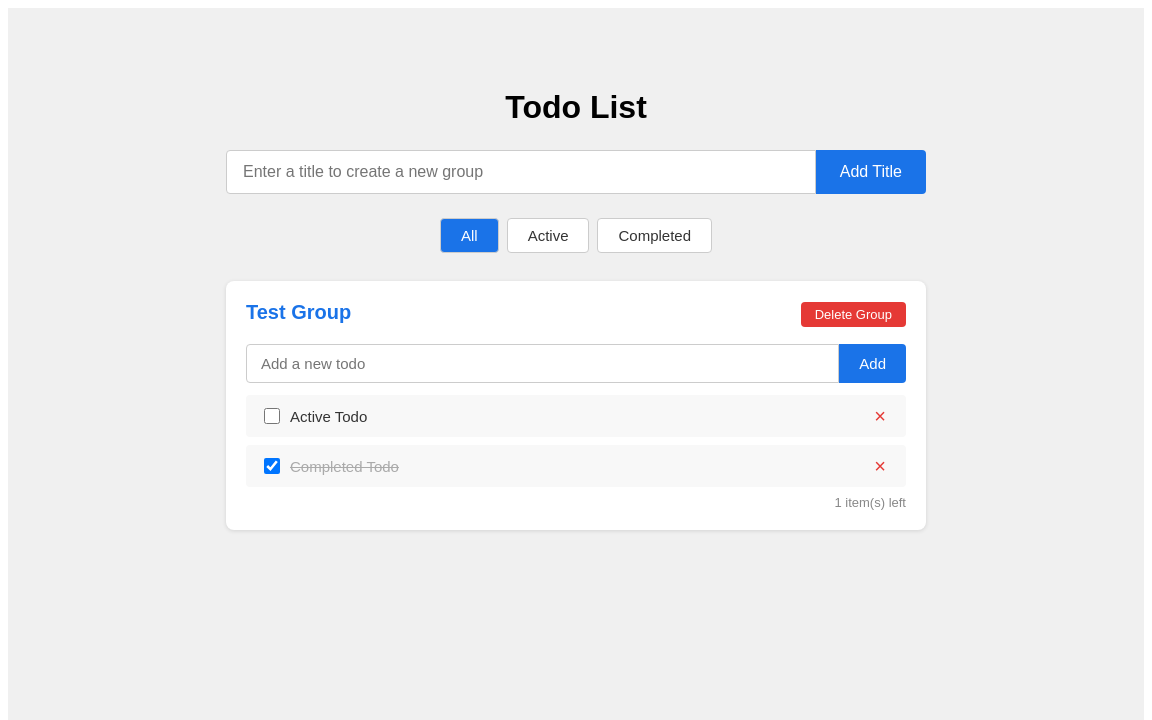
Scenario: Filter functionality › "Completed" filter shows only completed todos
Expected: the text "Active Todo" is shown, [290, 408, 367, 425]
Click the button with test id "filter-completed": [655, 236] box [598, 218, 712, 253]
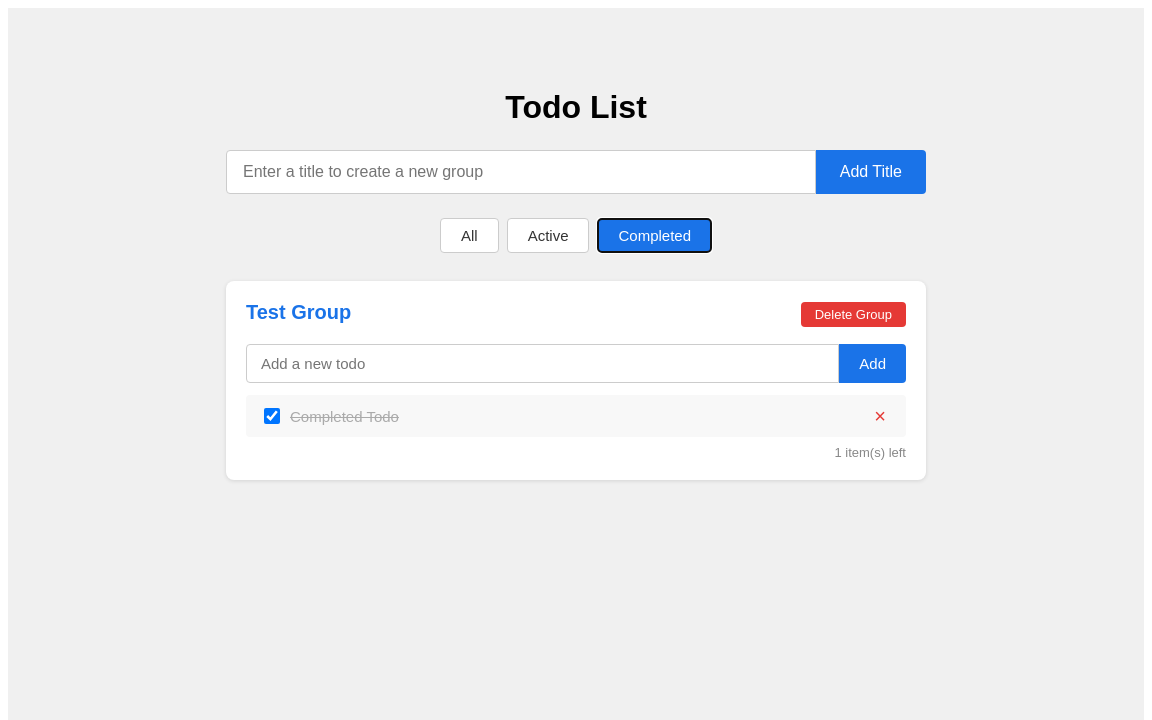
Expected: the text "Completed Todo" is shown, [290, 408, 399, 425]
Expected: the text "Active Todo" is gone
